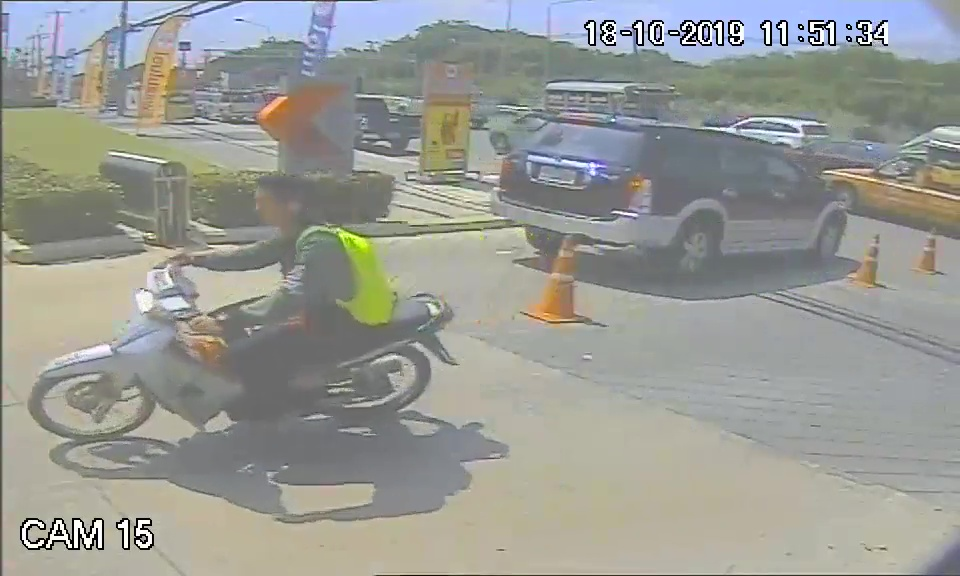motorcycle: (24, 257, 464, 444)
